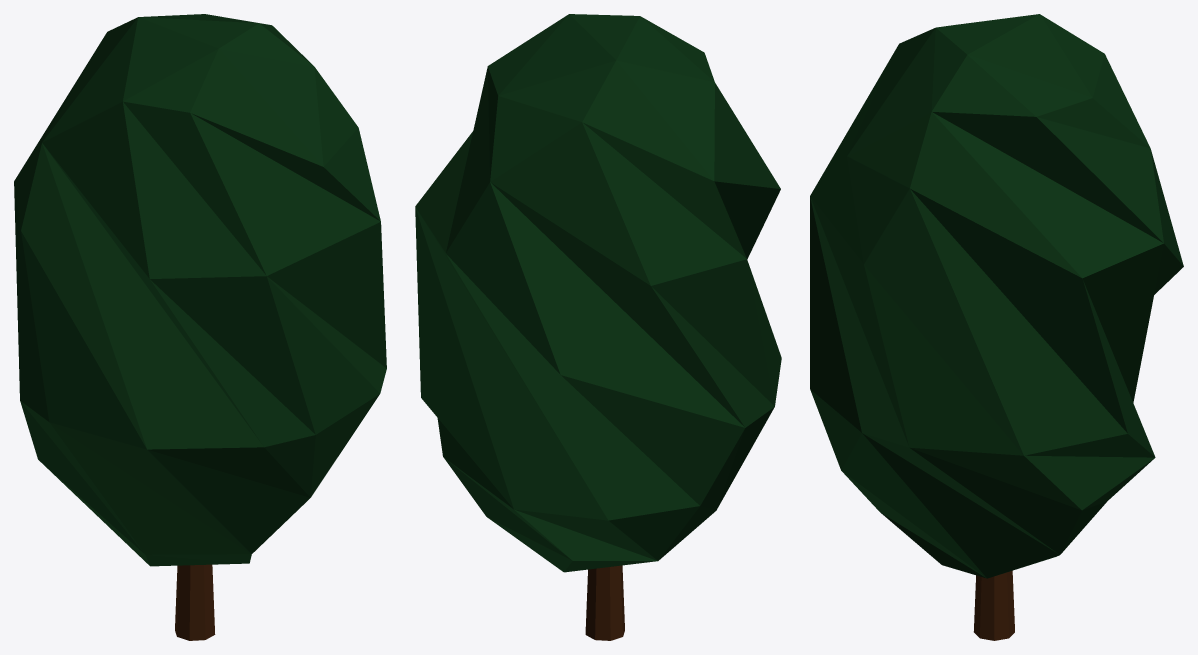
The model's file is Bush_c_c_01.fbx.
3 views of the same model, side by side, from view 1: azimuth 30°, elevation 25°; view 2: azimuth 150°, elevation 25°; view 3: azimuth 270°, elevation 25° (orthographic).
Parts seen in each view (by area): view 1: Bush_c_c_01_LOD0; view 2: Bush_c_c_01_LOD0; view 3: Bush_c_c_01_LOD0.
Part boxes in pixels (x1,y1,x2,y2): Bush_c_c_01_LOD0: (14, 14, 386, 640); Bush_c_c_01_LOD0: (415, 14, 781, 640); Bush_c_c_01_LOD0: (810, 14, 1183, 640).
Size of what is drawn, in the model's own units: 23.25 by 41.52 by 23.38.
